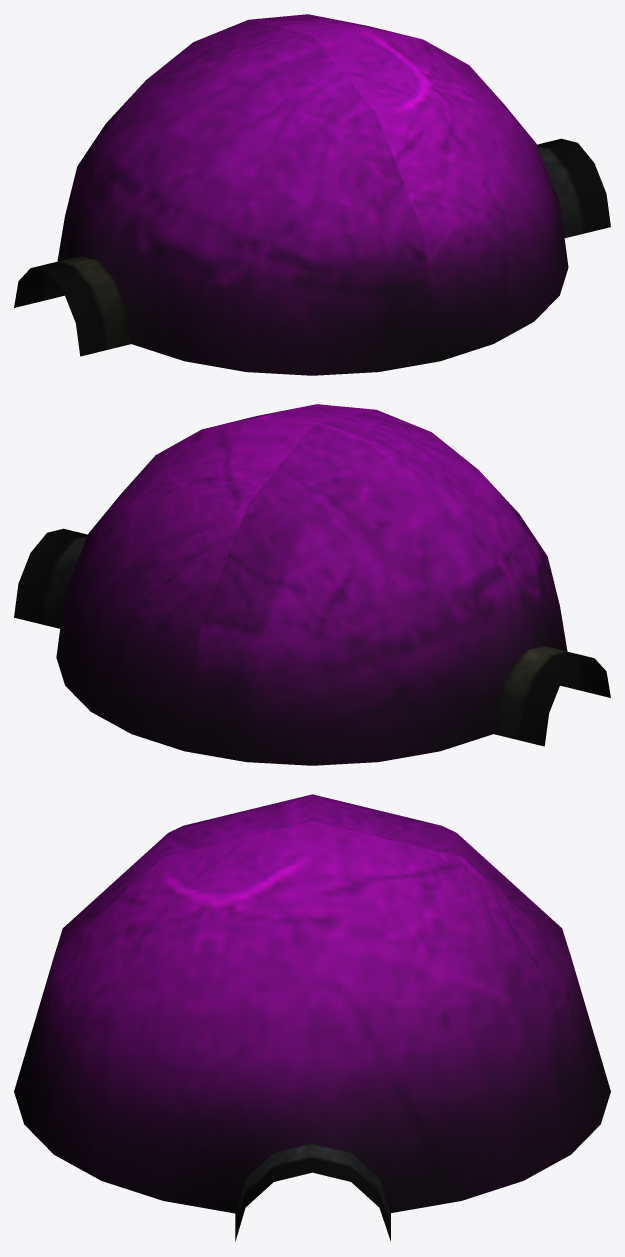
File: RadialTowerCore.fbx
The picture shows the model from 3 angles, top to bottom: view 1: azimuth 30°, elevation 25°; view 2: azimuth 150°, elevation 25°; view 3: azimuth 270°, elevation 25°; orthographic projection. The views are drawn at different scales.
Parts seen in each view (by area): view 1: Core; view 2: Core; view 3: Core.
Part boxes in pixels (<box>): Core: <box>14,14,610,375</box>; Core: <box>14,404,610,765</box>; Core: <box>14,794,610,1241</box>.
Bounding box in the file's own units: 1.56 × 0.65 × 1.3.
Materials: 1 (1 with a texture image).
